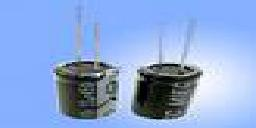Electrolytic Capacitor: (47, 1, 122, 127), (131, 2, 206, 125)
